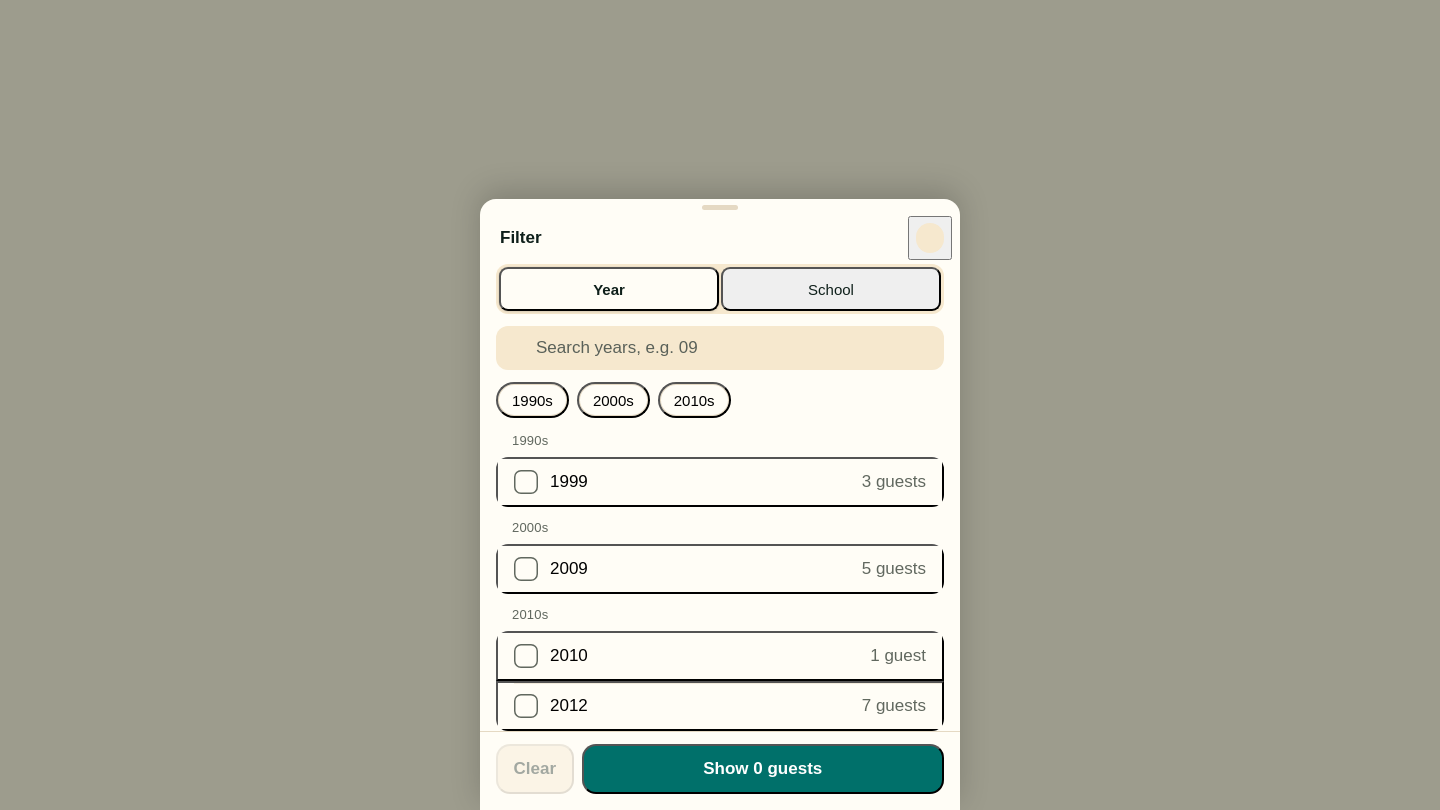
it: FilterSheet: years › toggles a year on and off, and updates the Show button
The width and height of the screenshot is (1440, 810).
Click the checkbox labelled "2012 7 guests" at (569, 706), box [496,681,944,731]
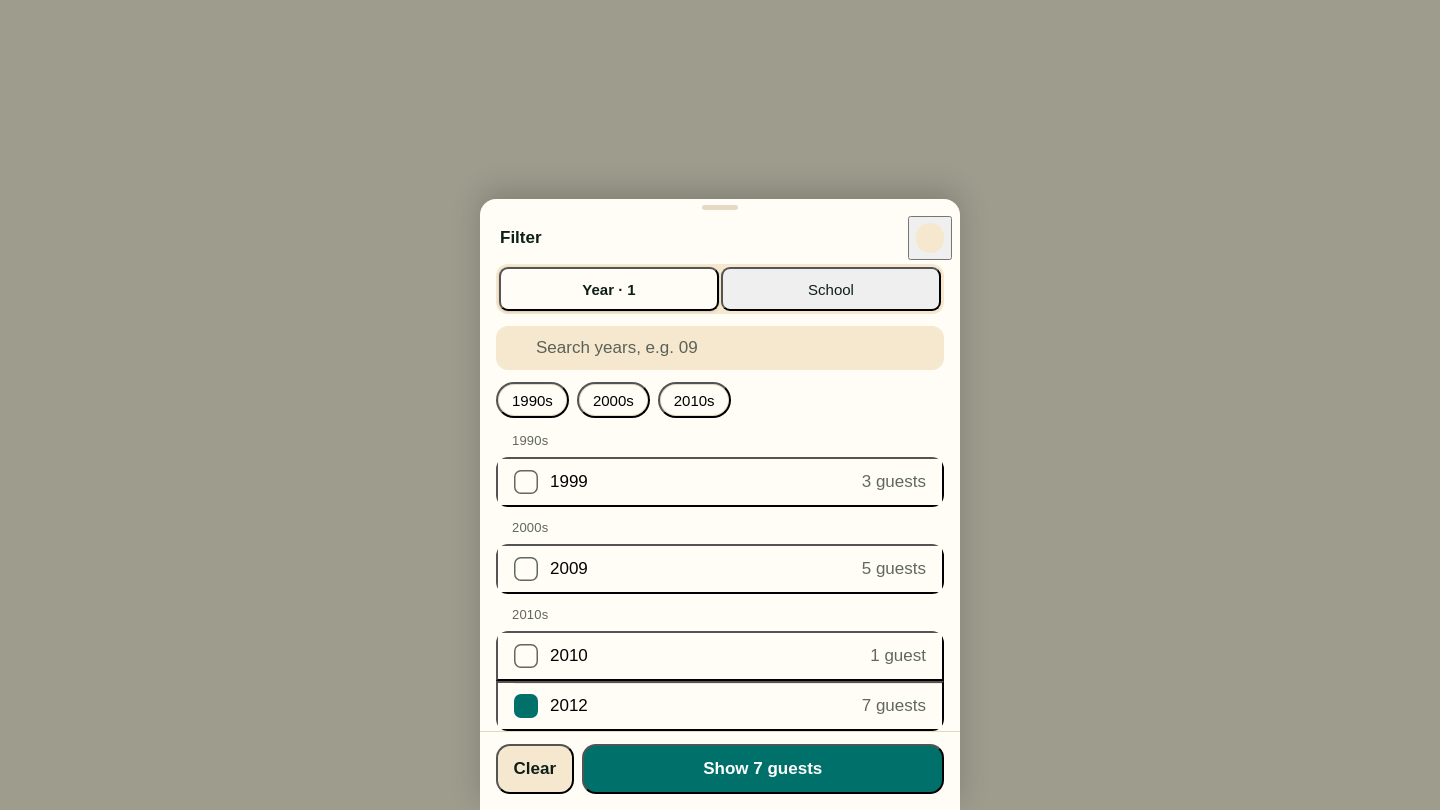
Now the button "Show 7 guests" is shown, box [582,744,944,794]
Click the checkbox labelled "2009 5 guests" at (569, 568), box [496,544,944,594]
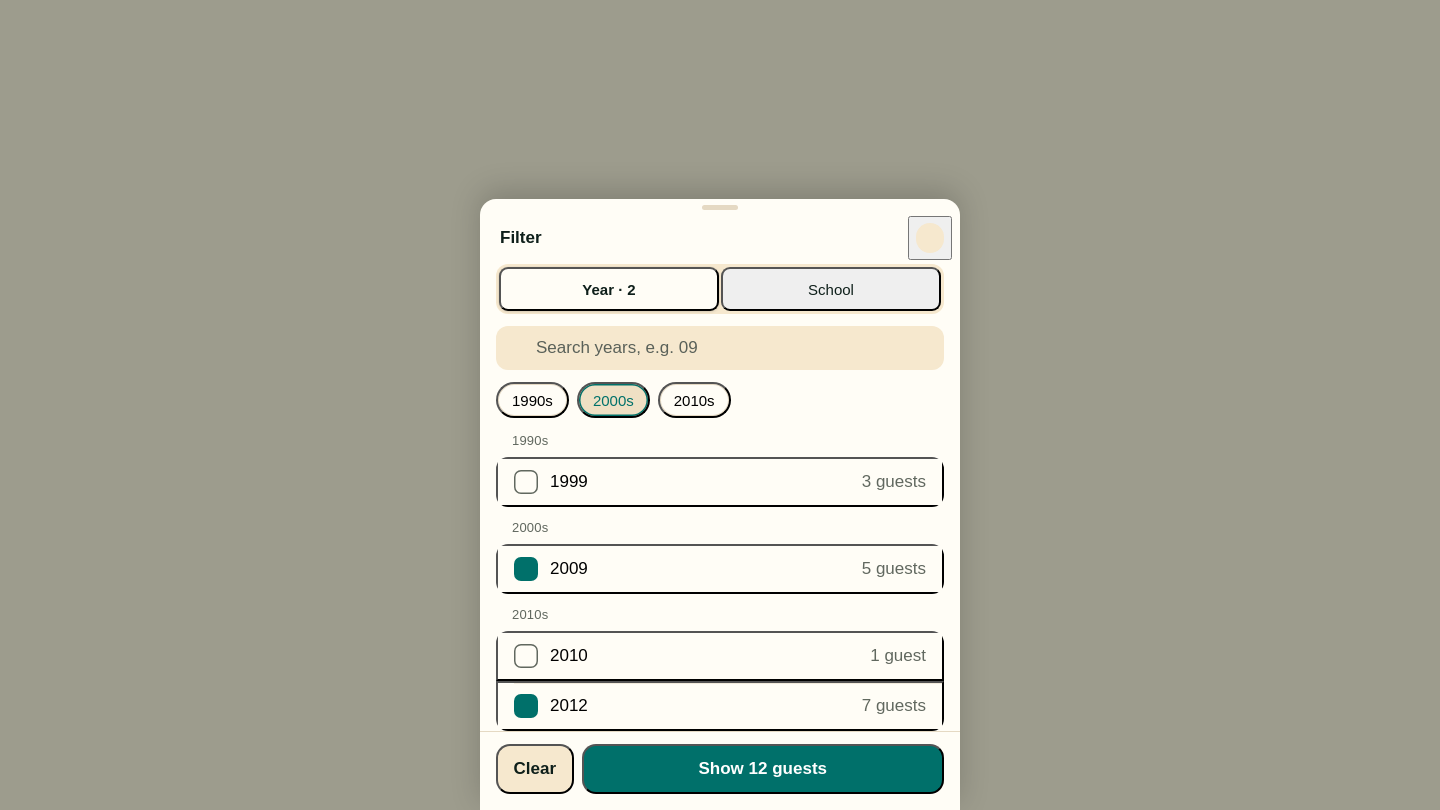
Now the button "Show 12 guests" is shown, box [582,744,944,794]
Click the checkbox labelled "2012 7 guests" at (569, 706), box [496,681,944,731]
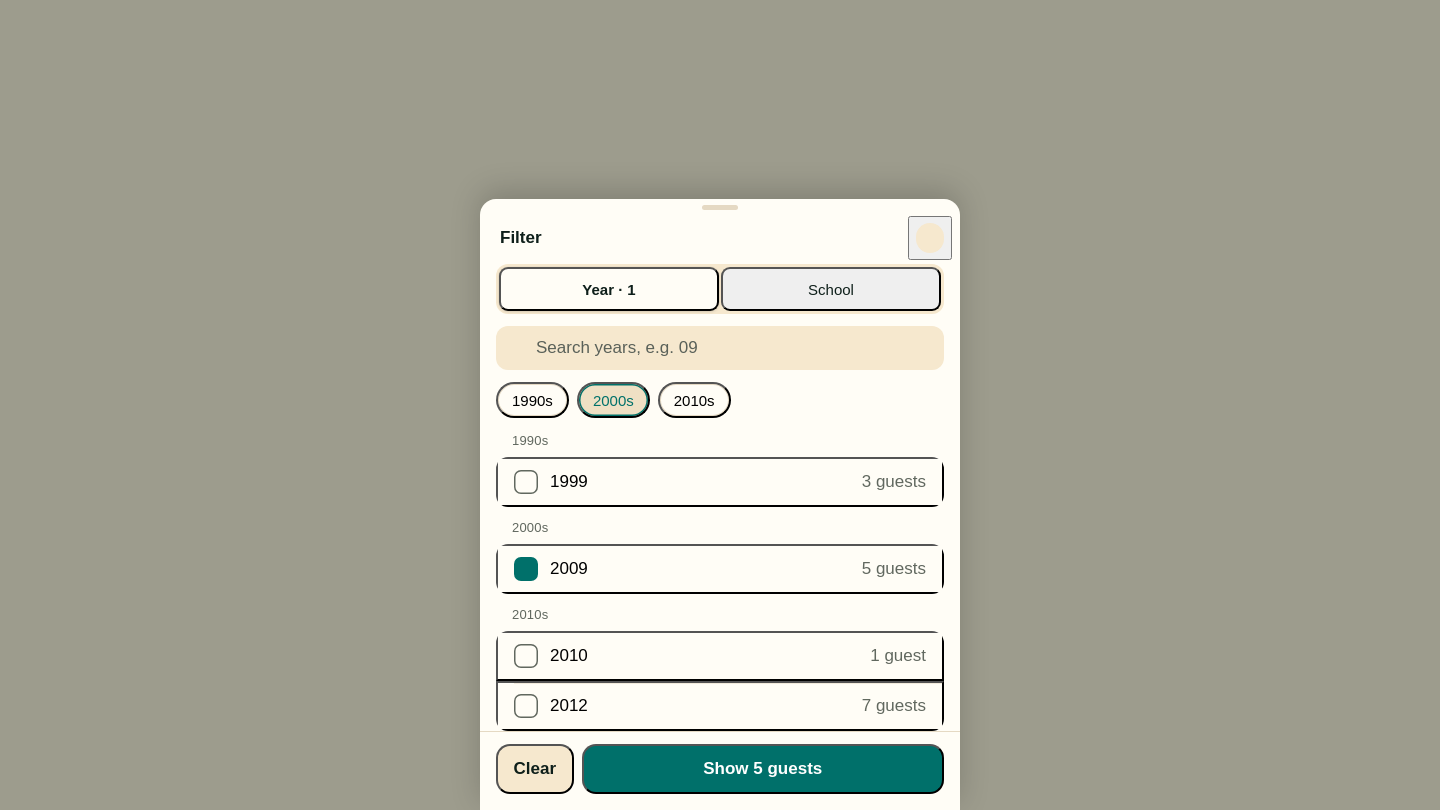
Now the button "Show 5 guests" is shown, box [582,744,944,794]
